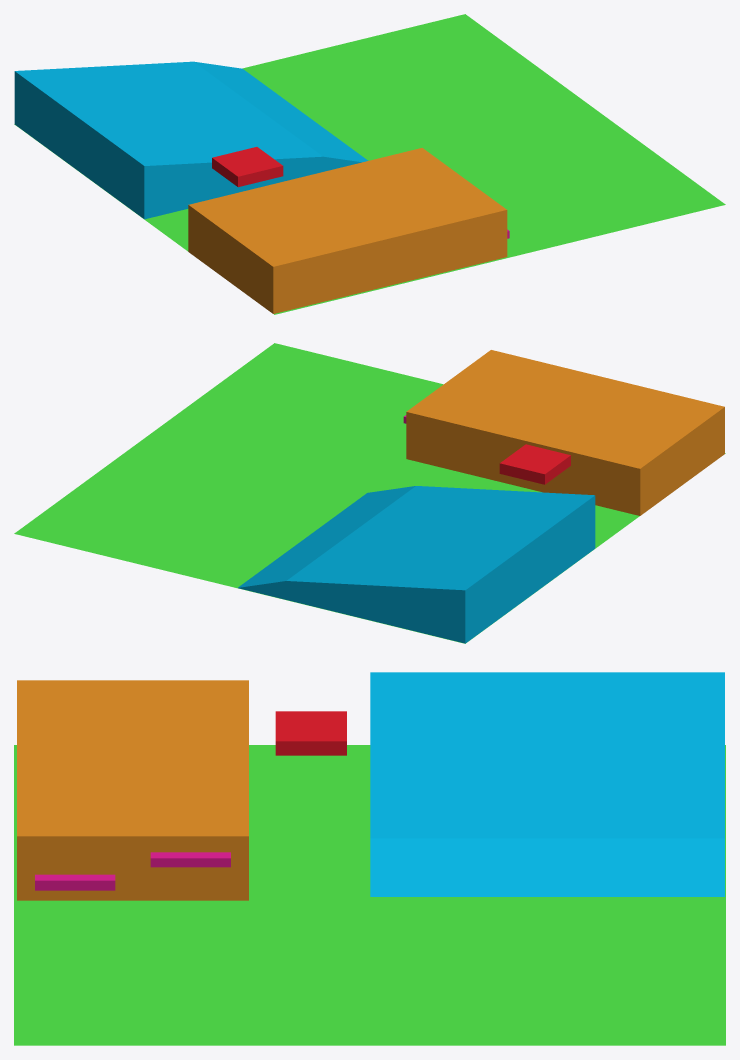
File: simple_scene.glb
3 views of the same model, one above another, from view 1: azimuth 30°, elevation 25°; view 2: azimuth 150°, elevation 25°; view 3: azimuth 270°, elevation 25° (orthographic). The views are drawn at different scales.
Visible parts, largest first — view 1: Player_Base_Layer, Player_Large_Platform_With_Extrusions, Player_Ramp.001, Player_Static_Platform; view 2: Player_Base_Layer, Player_Ramp.001, Player_Large_Platform_With_Extrusions, Player_Static_Platform; view 3: Player_Base_Layer, Player_Ramp.001, Player_Large_Platform_With_Extrusions, Player_Static_Platform.
Part boxes in pixels (x1,y1,x2,y2): Player_Base_Layer: (14,14,725,314); Player_Large_Platform_With_Extrusions: (188,148,509,313); Player_Ramp.001: (14,61,368,219); Player_Static_Platform: (212,147,283,187); Player_Base_Layer: (14,343,725,643); Player_Ramp.001: (238,486,595,643); Player_Large_Platform_With_Extrusions: (403,350,724,515); Player_Static_Platform: (499,444,570,484); Player_Base_Layer: (14,745,725,1045); Player_Ramp.001: (370,672,724,896); Player_Large_Platform_With_Extrusions: (17,680,248,900); Player_Static_Platform: (275,711,346,755).
Bounding box in the file's own units: 20.01 × 2.27 × 20.
